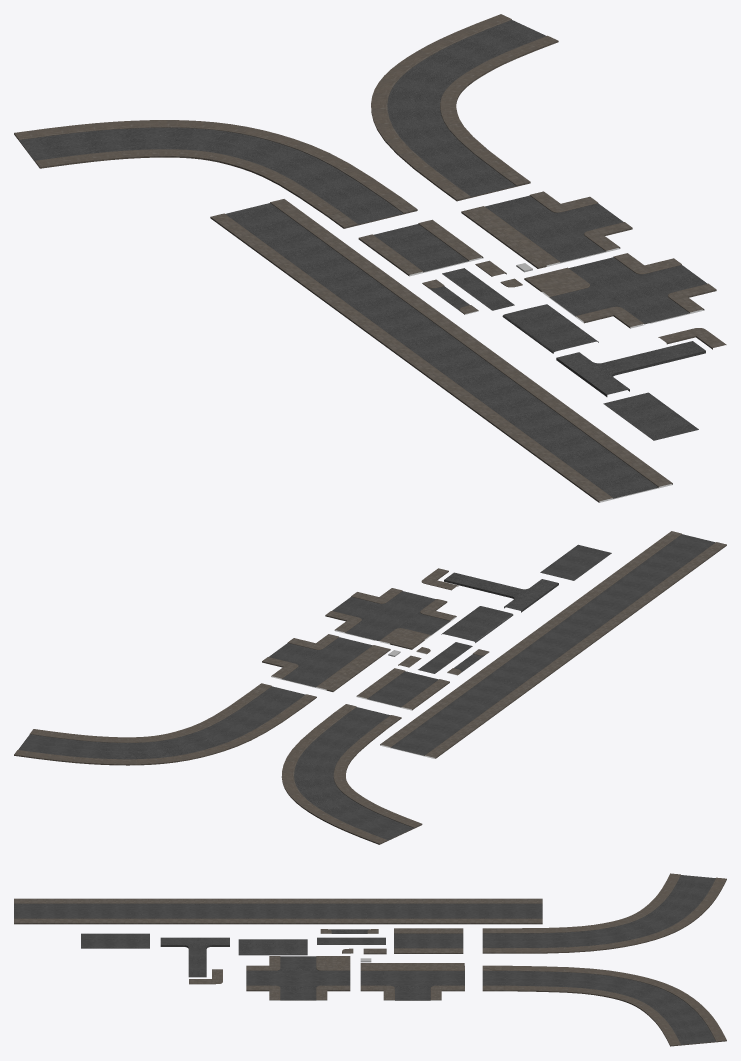
The model's file is road_template.glb.
3 renders of one model, top to bottom at view 1: azimuth 30°, elevation 25°; view 2: azimuth 150°, elevation 25°; view 3: azimuth 270°, elevation 25°, orthographic. The views are drawn at different scales.
Visible parts, largest first — view 1: Object_3, Object_4, Object_5; view 2: Object_3, Object_4, Object_5; view 3: Object_3, Object_4, Object_5.
Part boxes in pixels (left/top/right/bottom): Object_3: left=19, top=20, right=707, bottom=498; Object_4: left=14, top=19, right=724, bottom=502; Object_5: left=14, top=14, right=726, bottom=498; Object_3: left=18, top=534, right=715, bottom=839; Object_4: left=17, top=531, right=726, bottom=844; Object_5: left=14, top=533, right=716, bottom=844; Object_3: left=14, top=875, right=715, bottom=1044; Object_4: left=14, top=874, right=726, bottom=1046; Object_5: left=14, top=873, right=726, bottom=1045.
Size of the model in its own units: 126 by 0.7639 by 220.
Materials: 4 (3 with a texture image).
